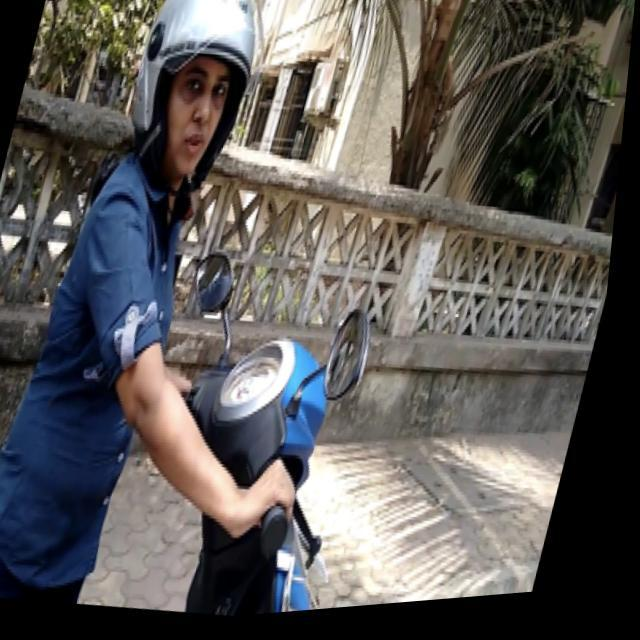Helmet: (127, 0, 260, 194)
